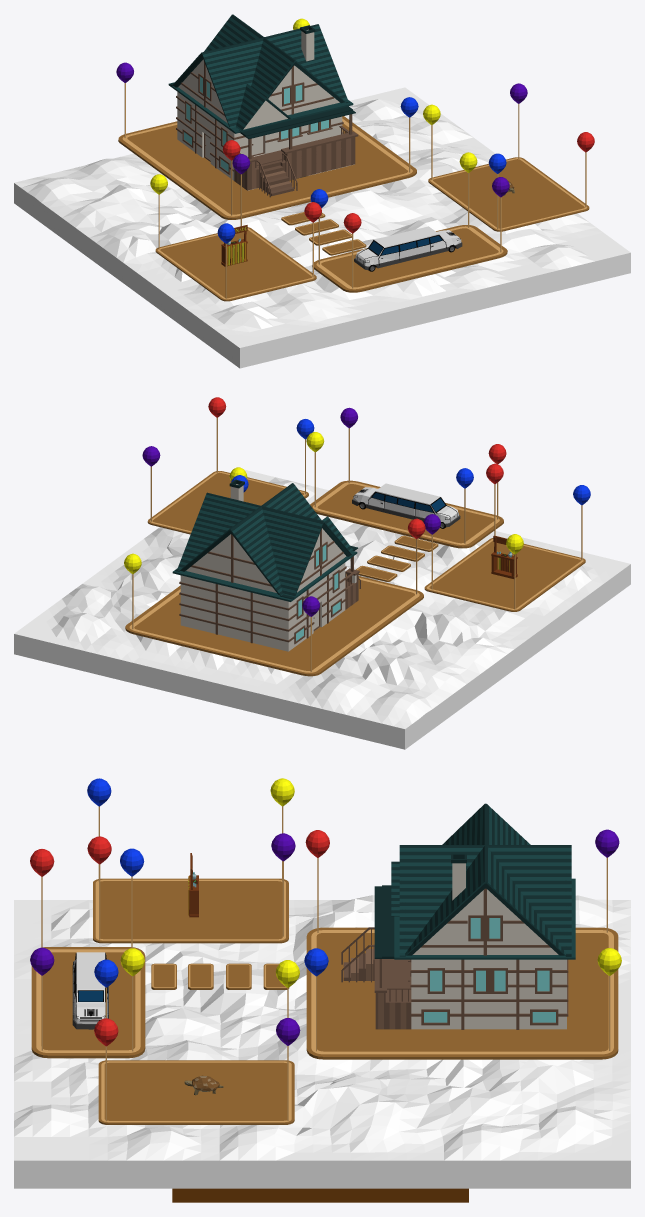
3 views of the same model, one above another, from view 1: azimuth 30°, elevation 25°; view 2: azimuth 150°, elevation 25°; view 3: azimuth 270°, elevation 25° (orthographic). The views are drawn at different scales.
Parts seen in each view (by area): view 1: Cube.013, Cube.793, VEHICLES_LIMOUSINE, OBJRANDOM_LEMONADE_STAND; view 2: Cube.013, Cube.793, VEHICLES_LIMOUSINE, OBJRANDOM_LEMONADE_STAND; view 3: Cube.013, Cube.793, UNDERGROUND_ART_PIECE_VAN_GOGH, VEHICLES_LIMOUSINE.
Boxes of the visible parts, x1=… form: Cube.013: x1=14, y1=18, x2=630, y2=368; Cube.793: x1=168, y1=14, x2=358, y2=197; VEHICLES_LIMOUSINE: x1=354, y1=226, x2=462, y2=271; OBJRANDOM_LEMONADE_STAND: x1=221, y1=225, x2=247, y2=266; Cube.013: x1=14, y1=397, x2=630, y2=749; Cube.793: x1=172, y1=479, x2=360, y2=651; VEHICLES_LIMOUSINE: x1=352, y1=483, x2=460, y2=528; OBJRANDOM_LEMONADE_STAND: x1=491, y1=535, x2=517, y2=578; Cube.013: x1=14, y1=778, x2=630, y2=1188; Cube.793: x1=341, y1=803, x2=575, y2=1029; UNDERGROUND_ART_PIECE_VAN_GOGH: x1=172, y1=1188, x2=468, y2=1202; VEHICLES_LIMOUSINE: x1=72, y1=952, x2=108, y2=1029.
Bounding box in the file's own units: 4000 × 1813 × 4000.
Materials: 35 (3 with a texture image).
